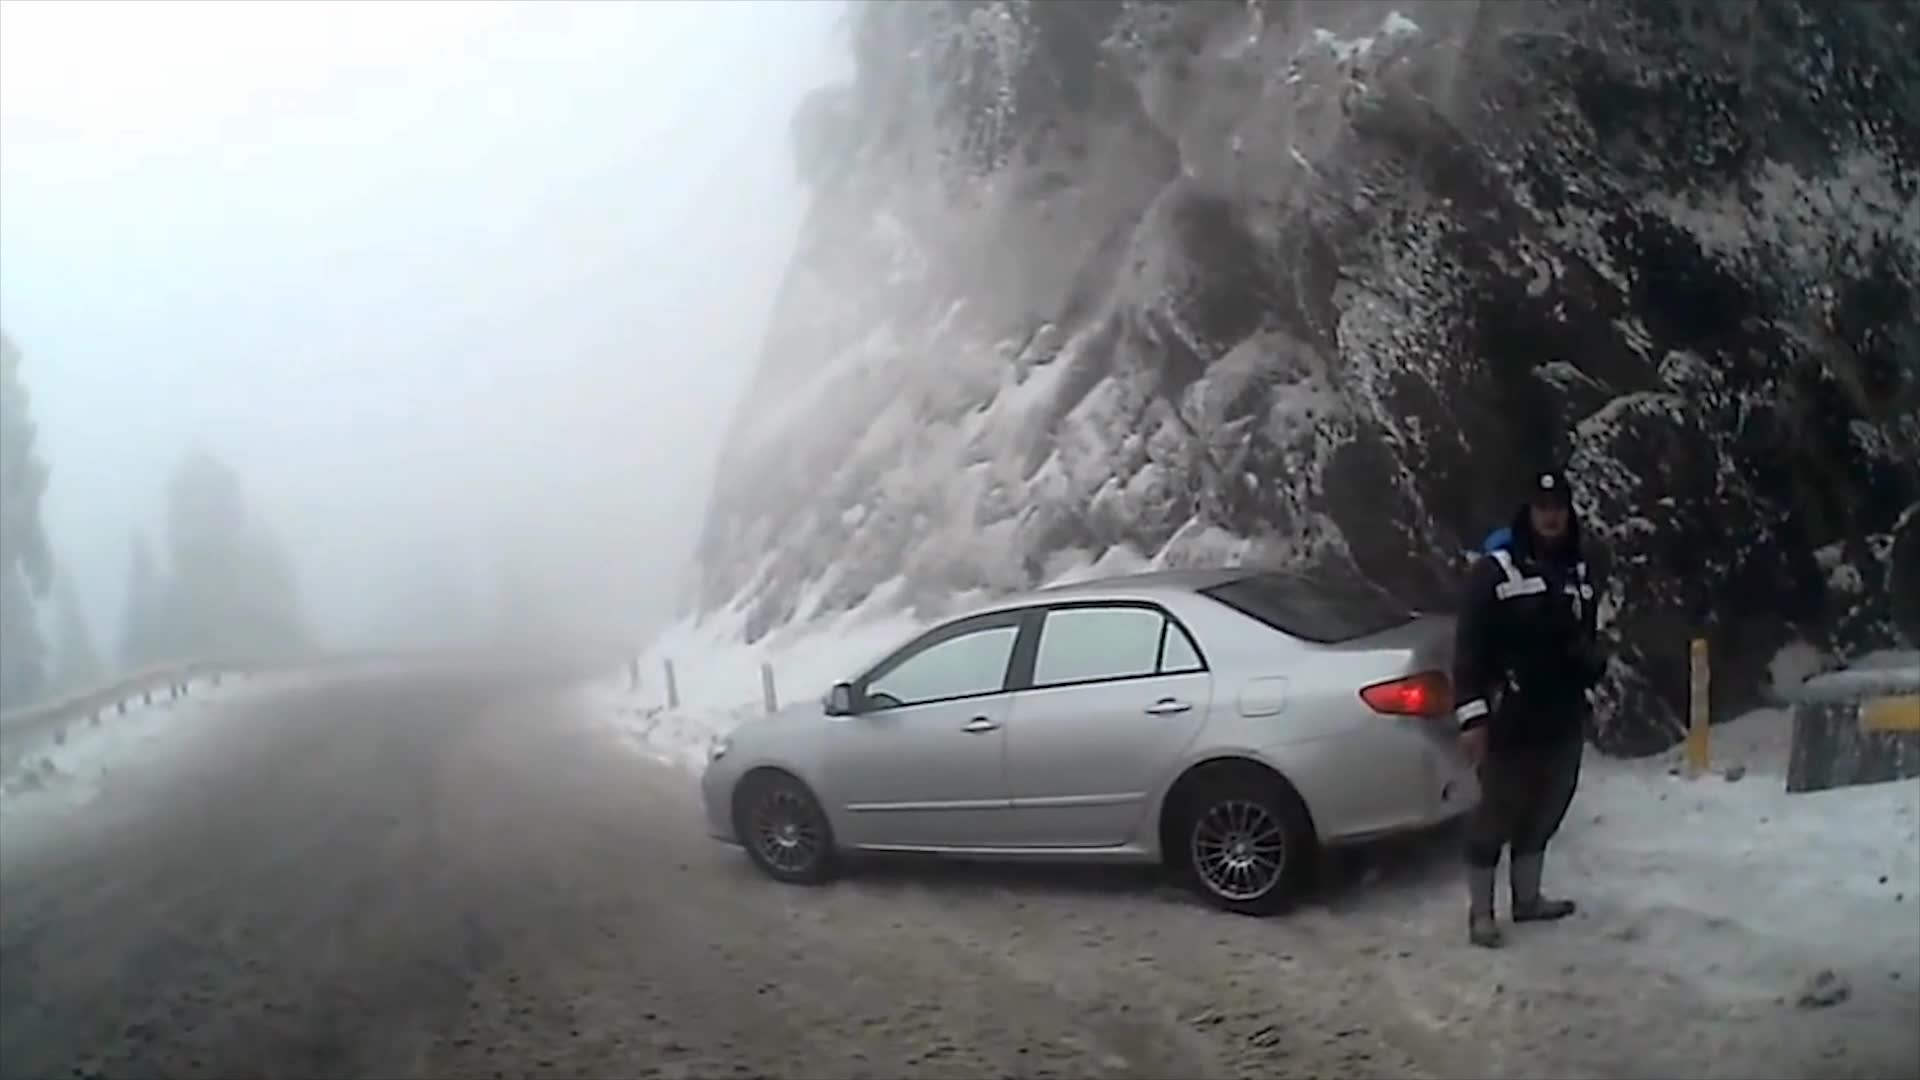pedestrian: (1445, 479, 1606, 957)
vehicle: (697, 569, 1554, 917)
